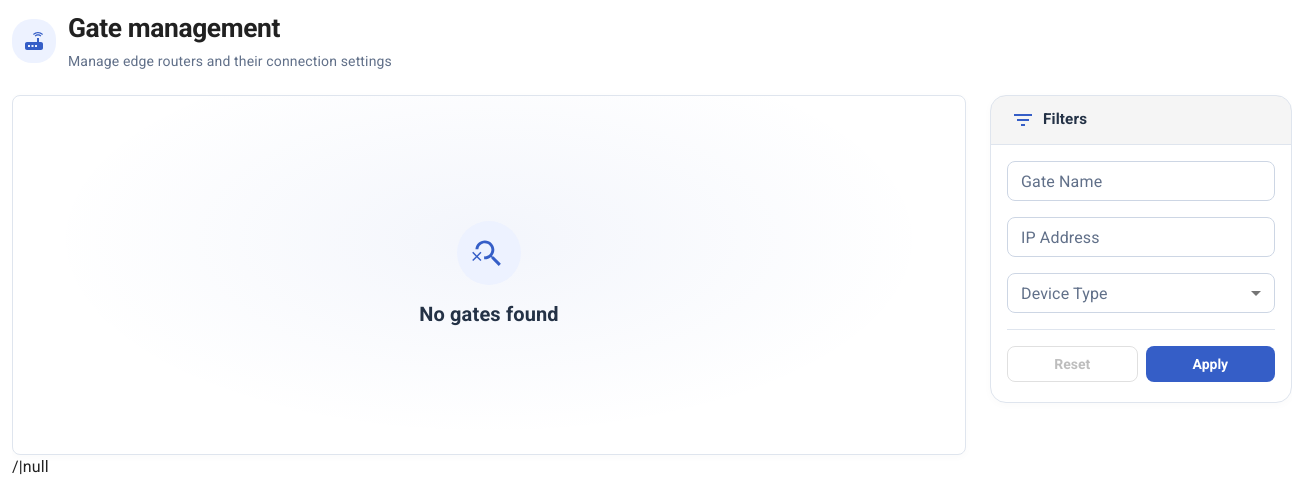
gates dashboard › shows an empty state and lets the filter panel apply and reset filters
expect the heading "No gates found" is shown: met, box [419, 301, 559, 328]
Type "core" into the field labelled "Gate Name" at (1141, 181), box [1007, 161, 1275, 201]
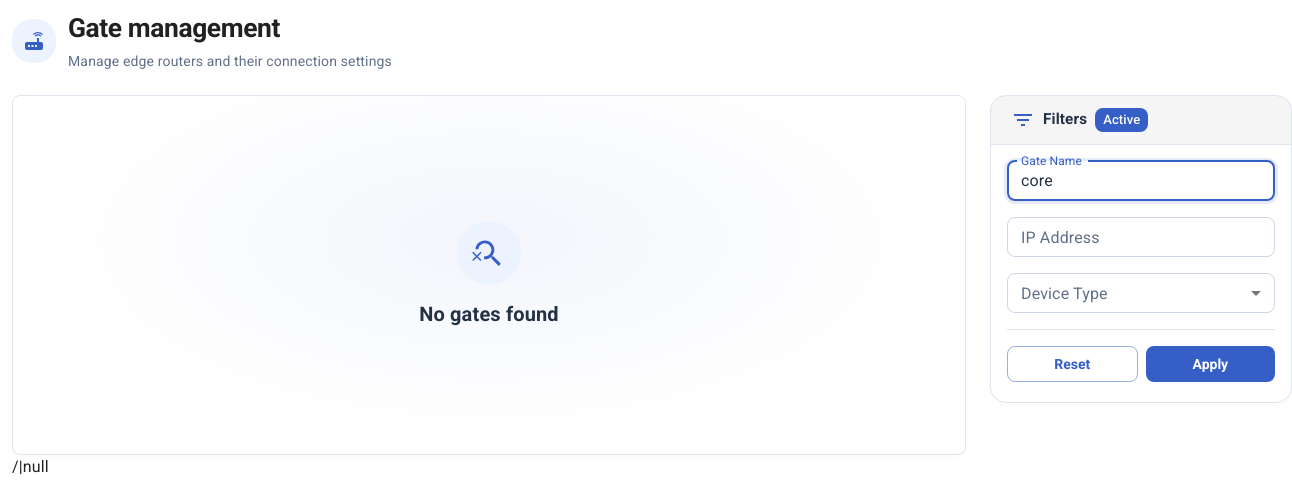
Click the button "Apply" at (1210, 364), box [1146, 346, 1275, 382]
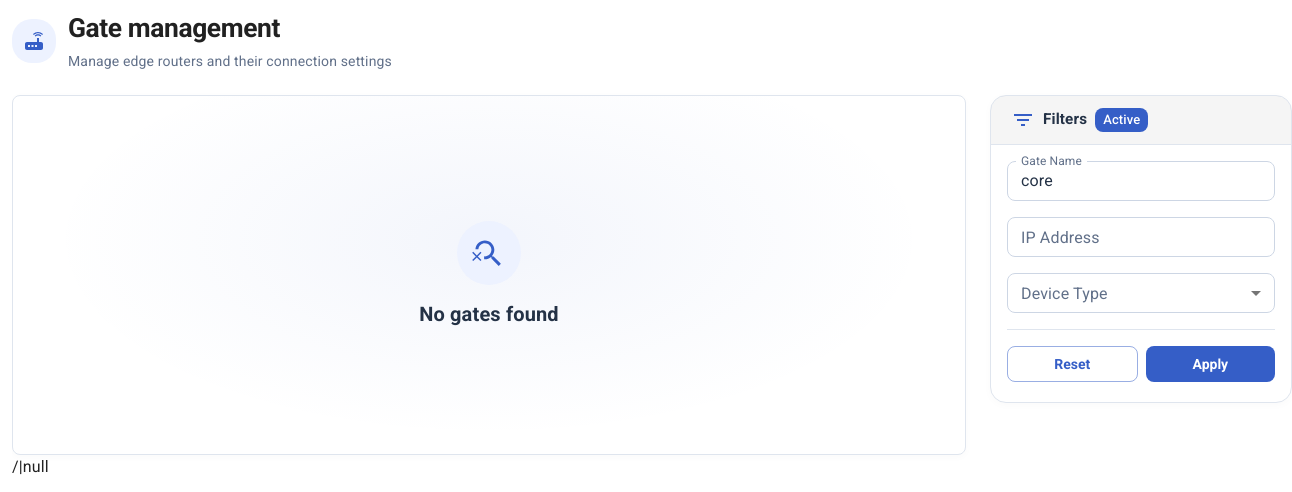
Click the button "Reset" at (1072, 364), box [1007, 346, 1138, 382]
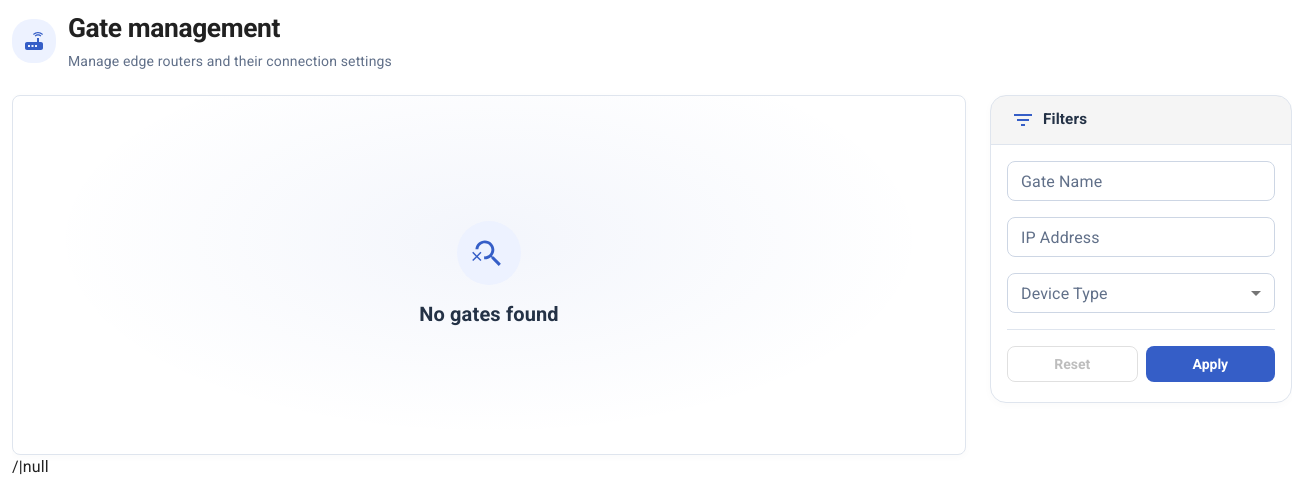
expect the field labelled "Gate Name" is empty: met, box [1007, 161, 1275, 201]
